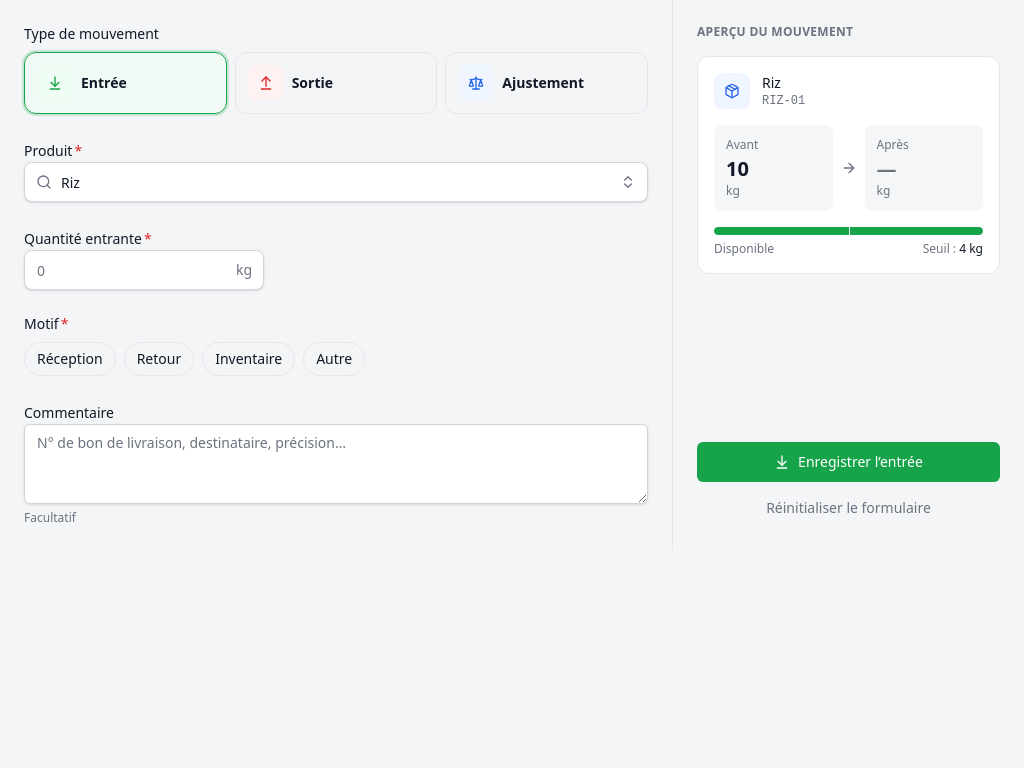
MovementForm › exige un motif avant l’enregistrement
In the field labelled "Quantité entrante*": (144,270) 24,250 -> 264,290, type "2"
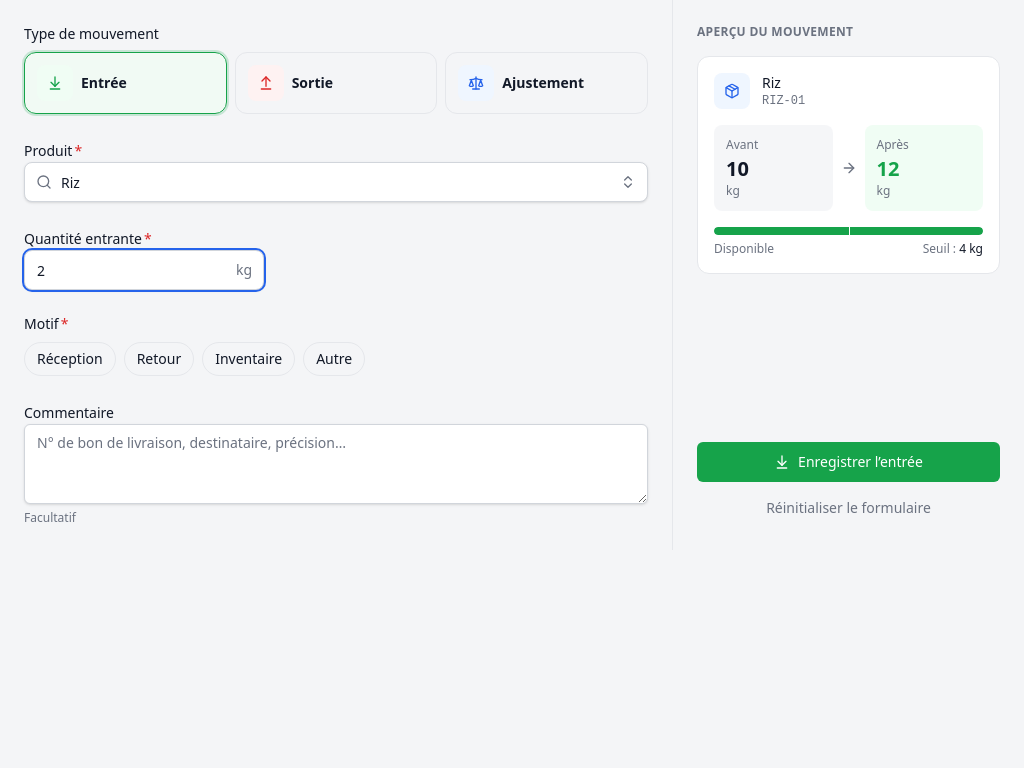
Click the button "Enregistrer l’entrée": (848,462) 697,442 -> 1000,482
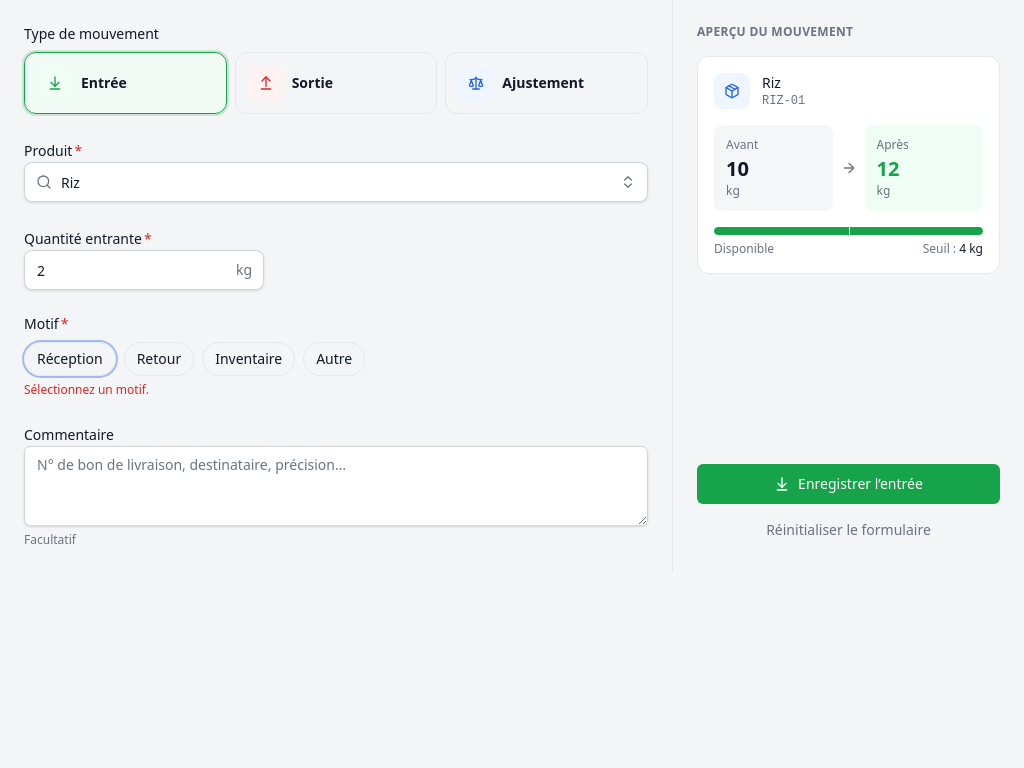
Now the text "Sélectionnez un motif." is shown, box 24,381 -> 149,398
